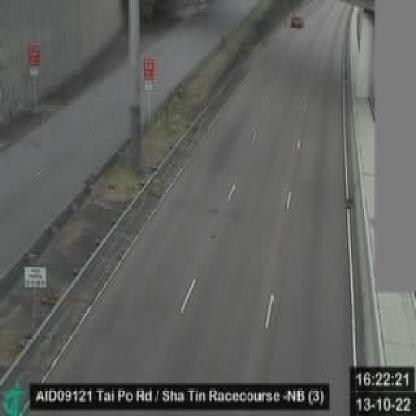Car: (289, 14, 304, 30)
